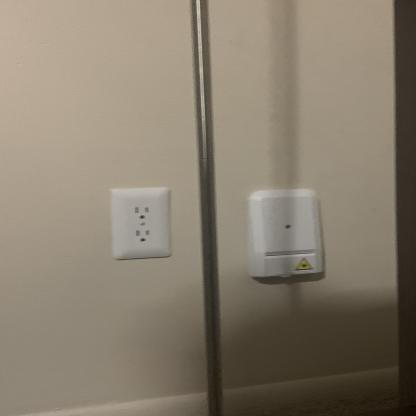OUTLET: (109, 187, 170, 258)
